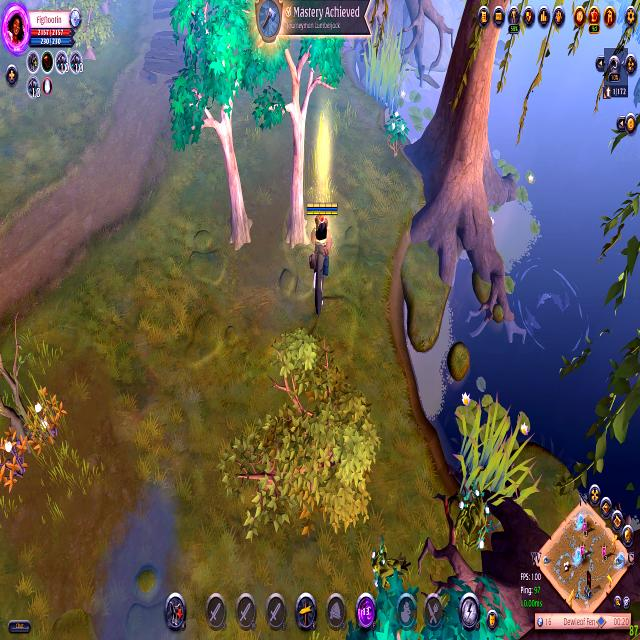hide: (24, 377, 68, 463), (0, 408, 31, 502), (380, 97, 411, 174)
ore: (439, 452, 496, 569), (368, 530, 410, 609)
wisp caged: (252, 0, 354, 259), (168, 0, 266, 259), (332, 564, 529, 640)
